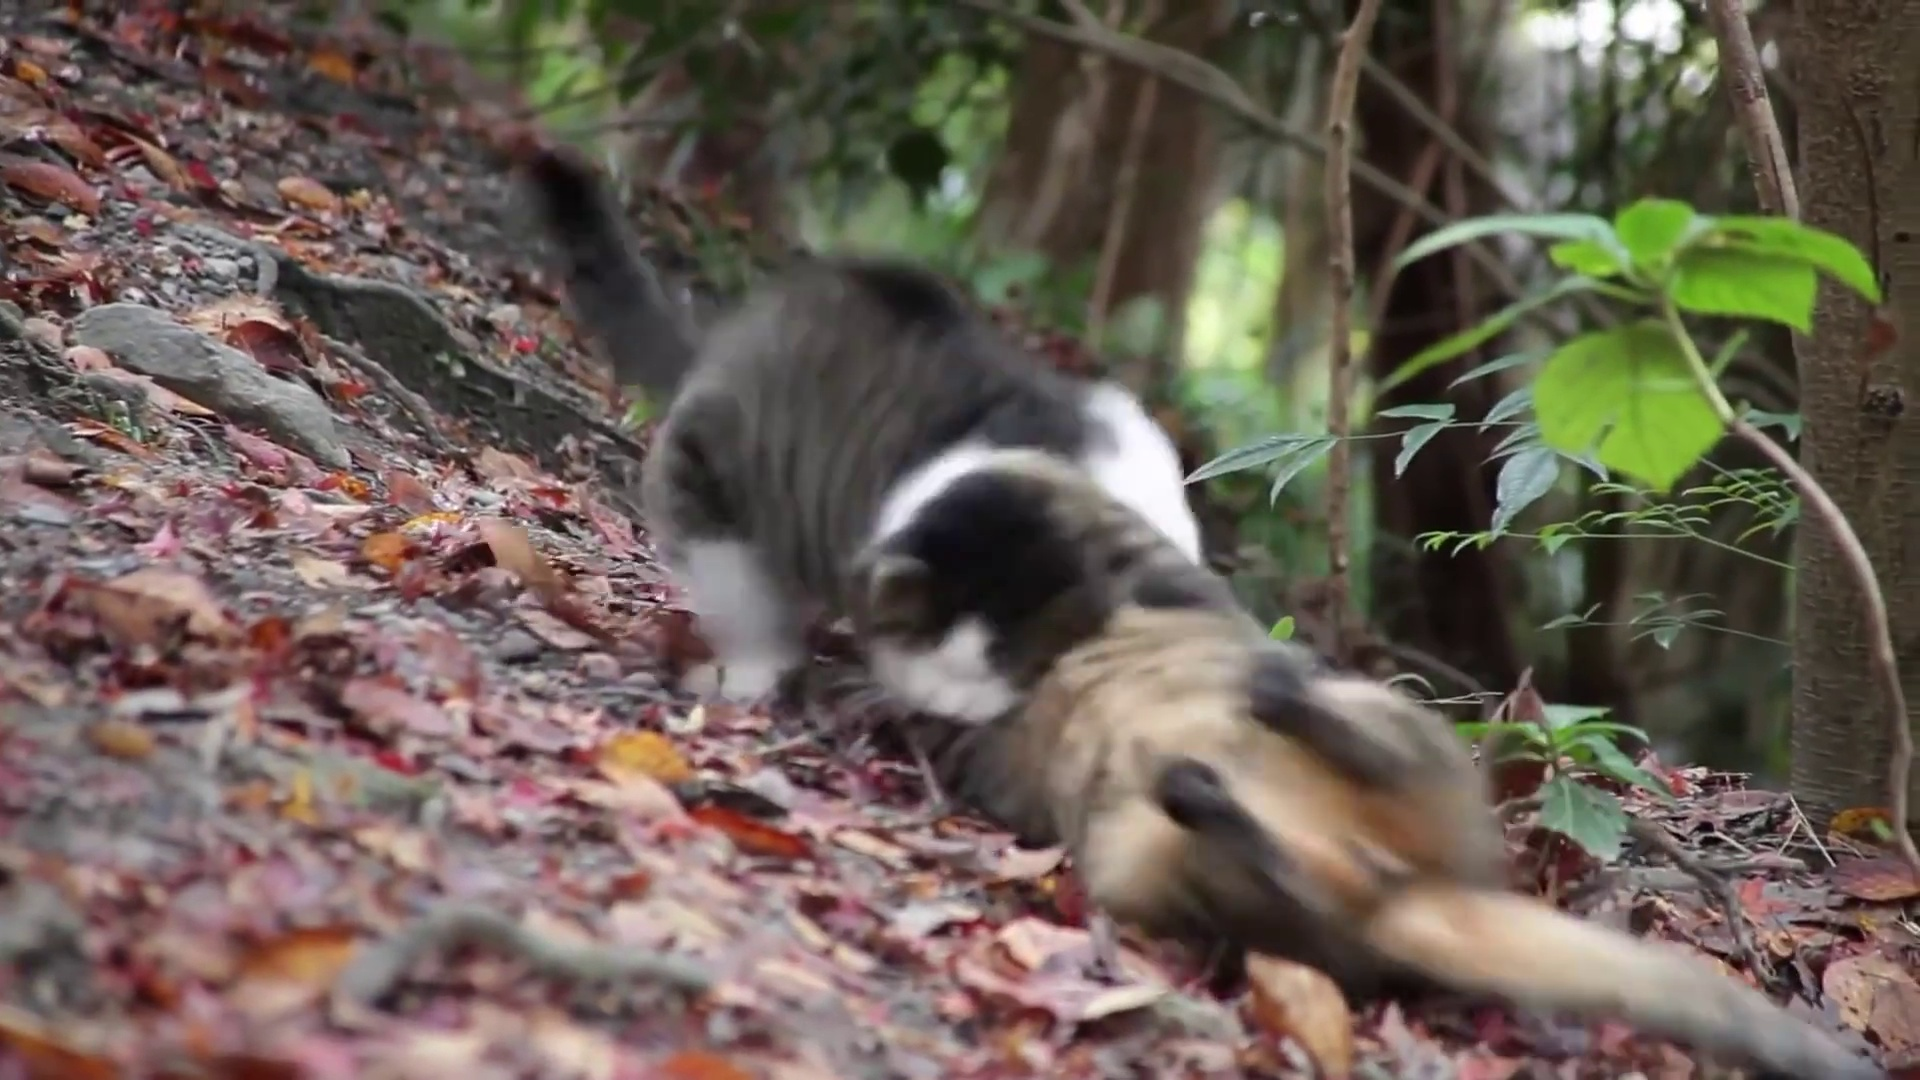black-white: (545, 154, 1174, 723)
pure black: (959, 599, 1880, 1080)
